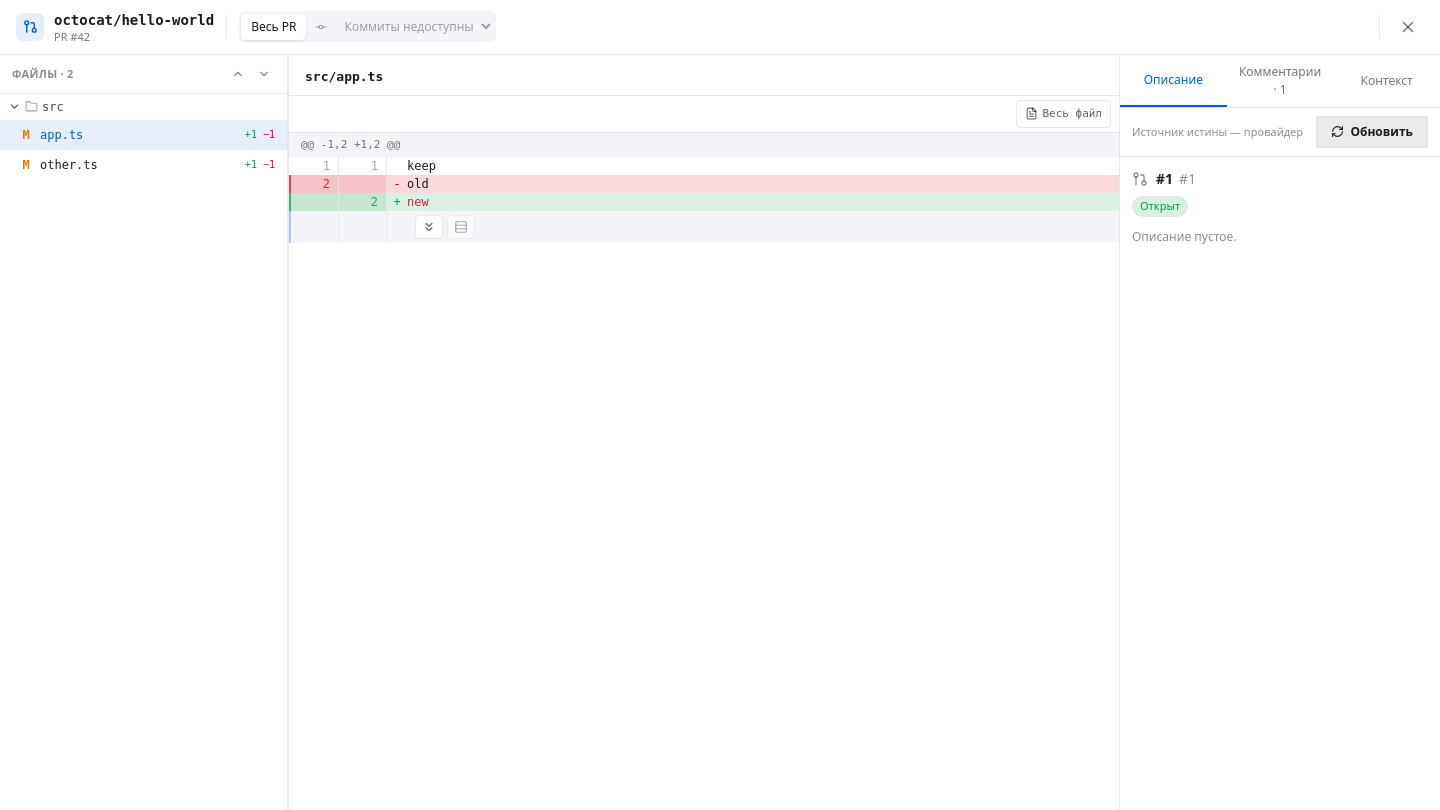
Test: Review workspace — inline comments › clicking a rail comment switches to its file
Expected: the text "src/app.ts" is shown, [305, 69, 383, 84]
What coordinates should you click on to do the following:
click the tab "Комментарии · 1"
I would click on:
 (1280, 81)
Its box is [1227, 55, 1333, 107].
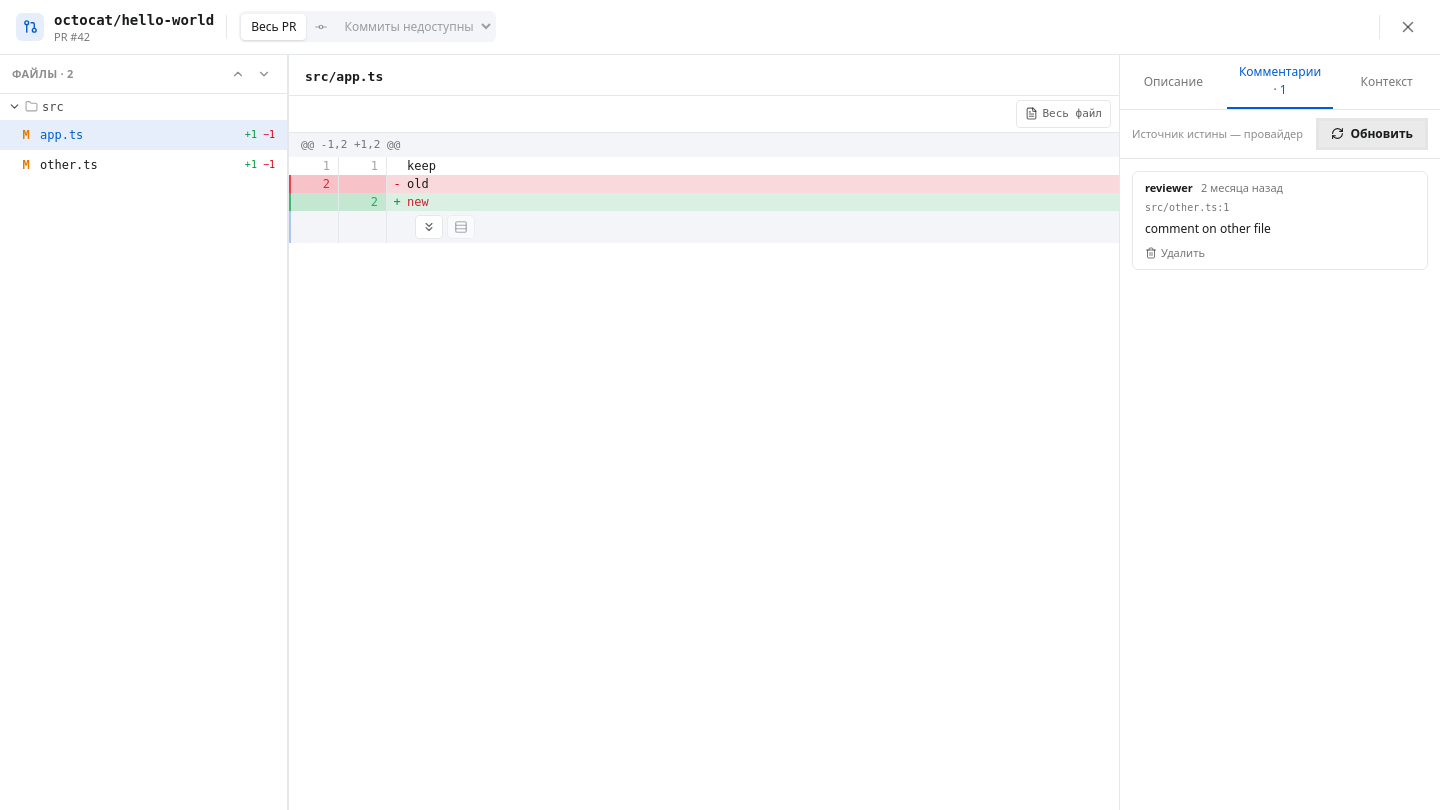
// Click the rail comment's author header (the jump affordance).
What coordinates should you click on to do the following:
click the text "reviewer"
I would click on:
 (1169, 188)
Its box is [1145, 180, 1193, 196].
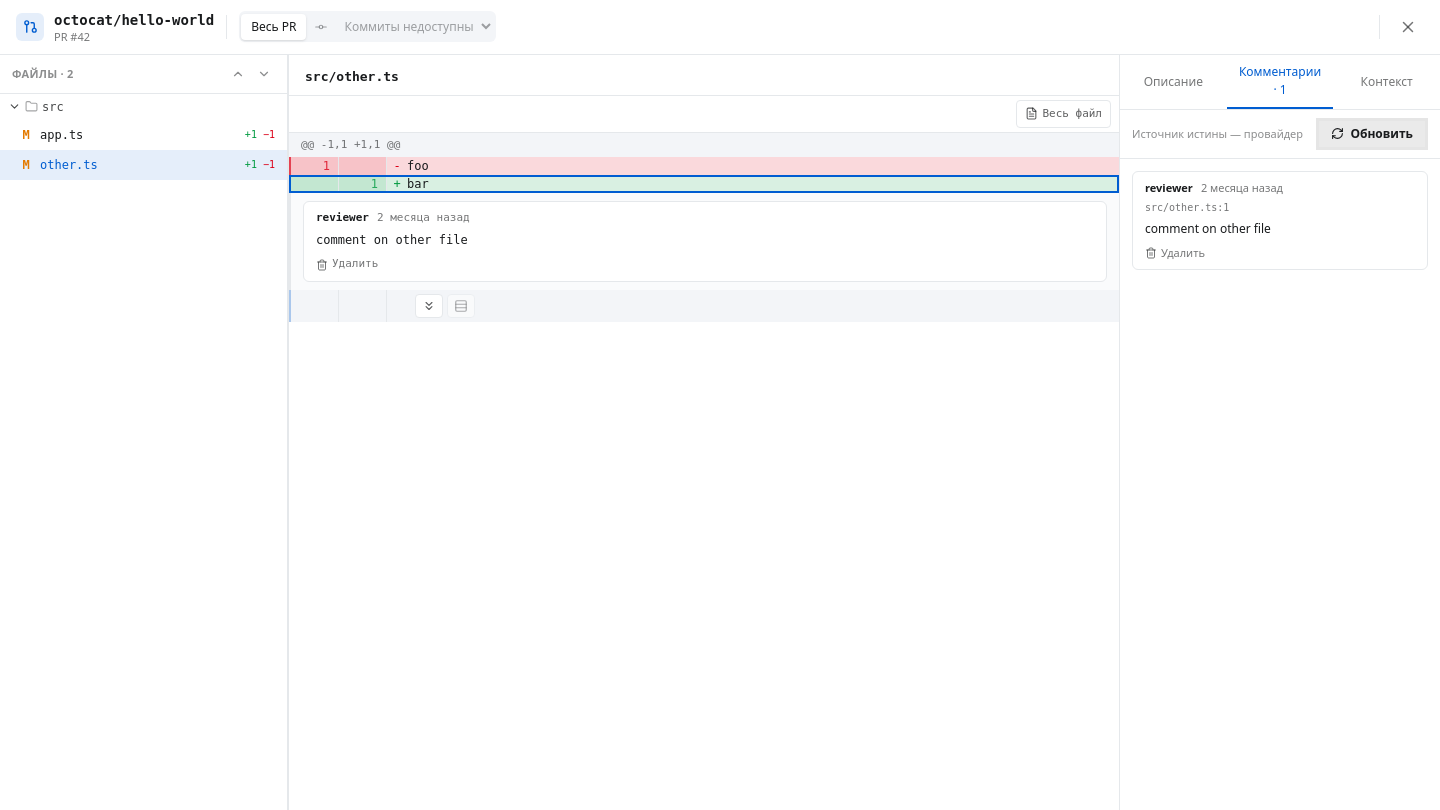
Expected: the text "src/other.ts" is shown, [305, 69, 399, 84]
